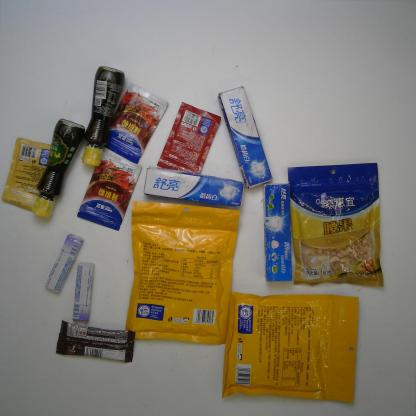Candy: (44, 233, 84, 292), (72, 262, 95, 322)
Chocolate: (54, 320, 136, 364)
Dried Fruit: (126, 200, 240, 345), (221, 290, 361, 405), (286, 160, 385, 292)
Personal Hygiene: (218, 86, 273, 190), (143, 164, 245, 207), (262, 181, 294, 282)
Seasoner: (101, 82, 169, 165), (32, 119, 84, 219), (78, 151, 142, 231), (157, 101, 222, 176), (80, 65, 124, 167), (0, 137, 53, 212)
